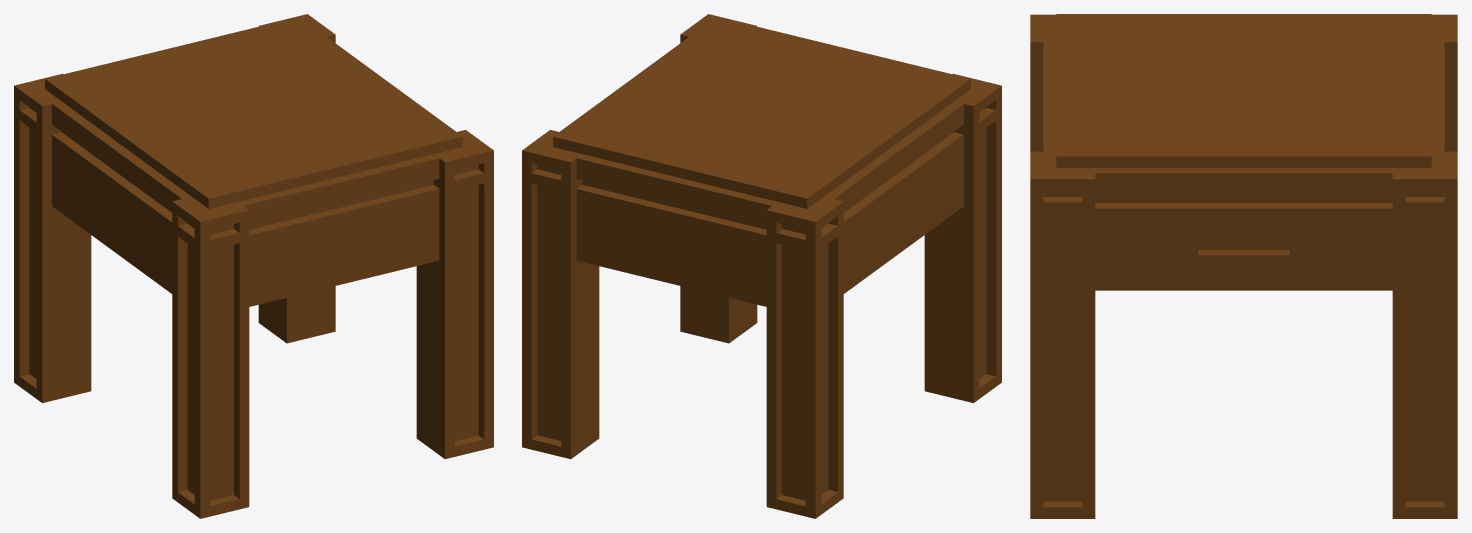
Rendered from cabeceira.obj.
The picture shows the model from 3 angles, left to right: view 1: azimuth 30°, elevation 25°; view 2: azimuth 150°, elevation 25°; view 3: azimuth 270°, elevation 25°; orthographic projection. The views are drawn at different scales.
Parts seen in each view (by area): view 1: cabeceira; view 2: cabeceira; view 3: cabeceira.
Part boxes in pixels (x1,y1,x2,y2): cabeceira: [14, 14, 493, 518]; cabeceira: [522, 14, 1001, 518]; cabeceira: [1030, 14, 1457, 518].
Bounding box in the file's own units: 30 × 30 × 33.
Materials: 1 (1 with a texture image).
